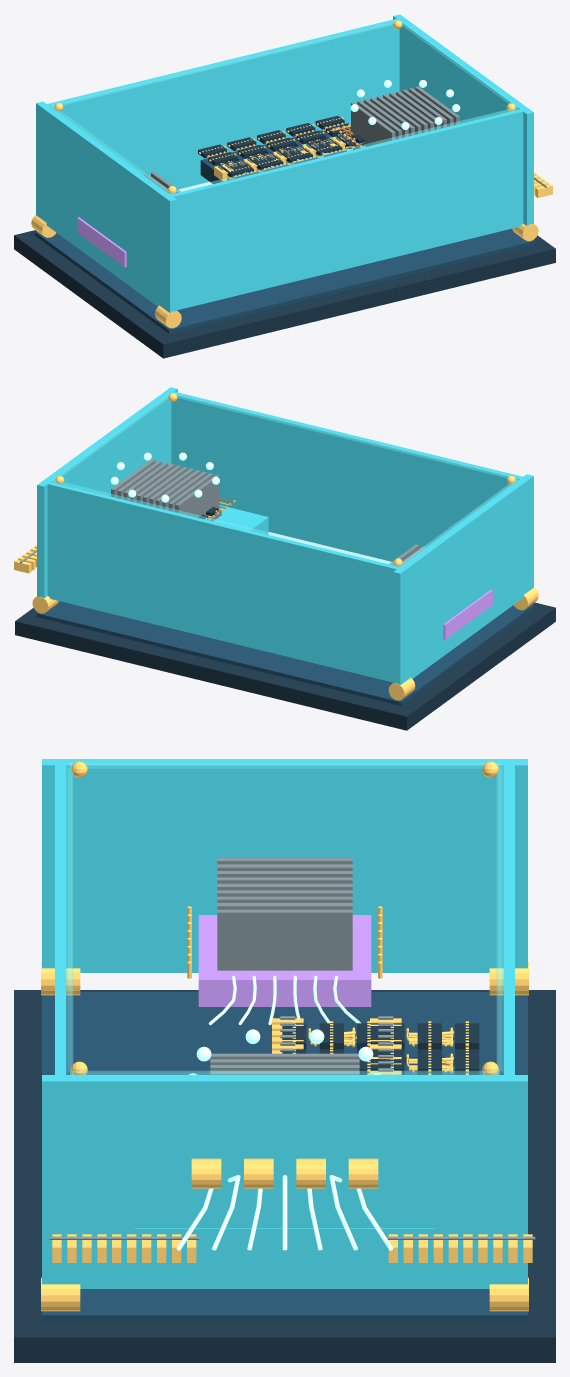
Rendered from history-neuron-v001.glb.
The picture shows the model from 3 angles, top to bottom: view 1: azimuth 30°, elevation 25°; view 2: azimuth 150°, elevation 25°; view 3: azimuth 270°, elevation 25°; orthographic projection. The views are drawn at different scales.
Visible parts, largest first — view 1: GEO-shell-crossbar.001, GEO-shell-crossbar, GEO-shell-rail, GEO-shell-base, GEO-shell-deck, GEO-shell-rail.001, GEO-shell-glass-edge, GEO-shell-glass-edge.001, GEO-fin-00.001, GEO-cpu-package, GEO-shell-glass-edge.003, GEO-shell-glass-edge.002; view 2: GEO-shell-crossbar, GEO-shell-crossbar.001, GEO-shell-rail, GEO-shell-base, GEO-shell-deck, GEO-shell-rail.001, GEO-shell-glass-edge.001, GEO-shell-glass-edge, GEO-fin-00.001, GEO-gpu-frame, GEO-cpu-package, GEO-shell-glass-edge.003 (+1 smaller); view 3: GEO-shell-rail.001, GEO-shell-rail, GEO-shell-base, GEO-shell-deck, GEO-fin-08, GEO-cpu-package, GEO-gpu-frame, GEO-shell-crossbar, GEO-shell-crossbar.001, GEO-shell-glass-edge.002, GEO-shell-glass-edge, GEO-shell-glass-edge.001 (+21 smaller).
Boxes of the visible parts, x1,y1,x2,y2 form: GEO-shell-crossbar.001: (165, 108, 528, 310); GEO-shell-crossbar: (41, 17, 404, 189); GEO-shell-rail: (36, 101, 176, 312); GEO-shell-base: (14, 230, 555, 358); GEO-shell-deck: (35, 228, 534, 333); GEO-shell-rail.001: (393, 14, 533, 225); GEO-shell-glass-edge: (51, 21, 393, 107); GEO-shell-glass-edge.001: (170, 107, 518, 193); GEO-fin-00.001: (351, 102, 395, 145); GEO-cpu-package: (77, 217, 126, 267); GEO-shell-glass-edge.003: (401, 21, 518, 108); GEO-shell-glass-edge.002: (51, 105, 170, 193); GEO-shell-crossbar: (42, 480, 405, 682); GEO-shell-crossbar.001: (165, 390, 528, 561); GEO-shell-rail: (393, 474, 533, 684); GEO-shell-base: (15, 602, 555, 730); GEO-shell-deck: (36, 601, 534, 705); GEO-shell-rail.001: (37, 387, 177, 598); GEO-shell-glass-edge.001: (176, 394, 518, 480); GEO-shell-glass-edge: (52, 480, 400, 566); GEO-fin-00.001: (175, 474, 219, 518); GEO-gpu-frame: (213, 505, 268, 534); GEO-cpu-package: (443, 589, 492, 639); GEO-shell-glass-edge.003: (52, 393, 170, 481); GEO-shell-rail.001: (42, 1075, 527, 1288); GEO-shell-rail: (42, 759, 527, 972); GEO-shell-base: (14, 990, 555, 1362); GEO-shell-deck: (42, 991, 527, 1322); GEO-fin-08: (217, 909, 352, 970); GEO-cpu-package: (198, 915, 371, 1006); GEO-gpu-frame: (135, 1228, 434, 1261); GEO-shell-crossbar: (503, 760, 514, 1080); GEO-shell-crossbar.001: (55, 760, 66, 1080); GEO-shell-glass-edge.002: (70, 763, 499, 768); GEO-shell-glass-edge: (497, 763, 502, 1074); GEO-shell-glass-edge.001: (67, 763, 72, 1074).
Size of the model in its own units: 9.27 by 3.27 by 5.8.
